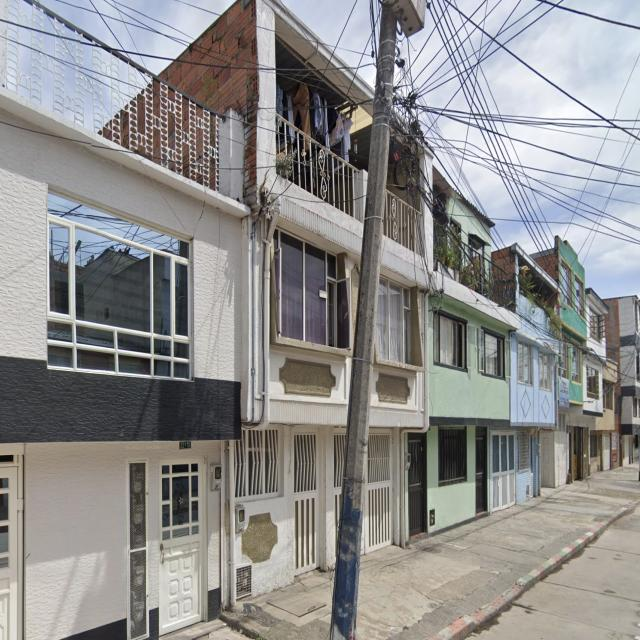Fachada: (0, 99, 243, 640), (165, 0, 373, 604), (426, 169, 518, 533), (361, 130, 433, 552), (489, 244, 558, 510), (531, 236, 587, 410), (582, 288, 608, 430)
Poste: (330, 0, 396, 640)
